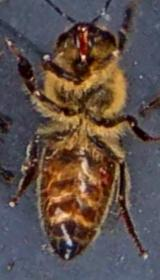varroa_mite: (91, 154, 118, 192)
